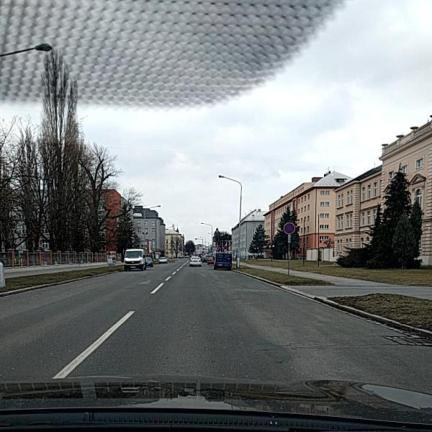Road: (0, 261, 431, 391)
